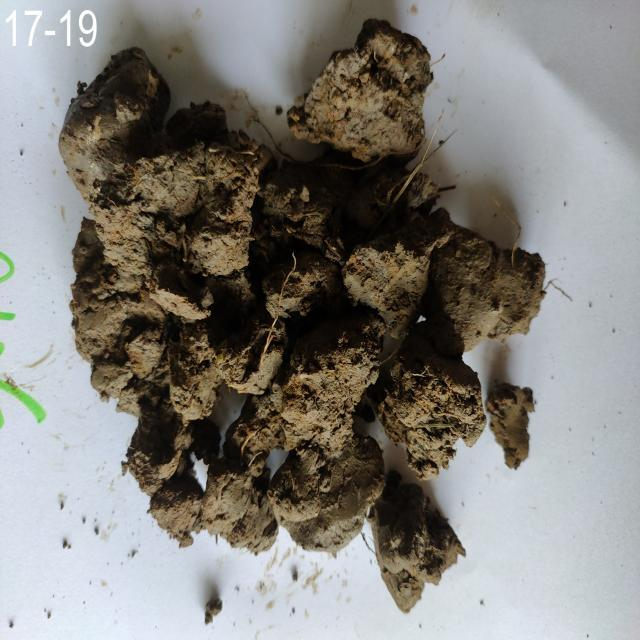soil: (141, 149, 445, 508)
